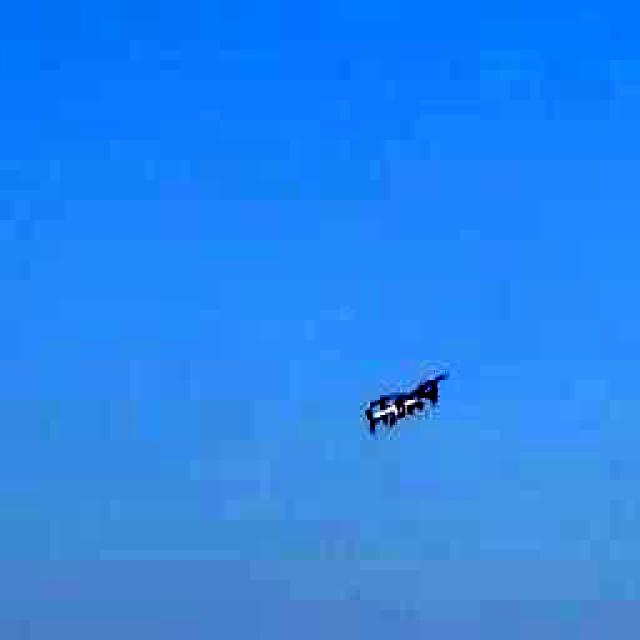bird: (345, 355, 460, 442)
